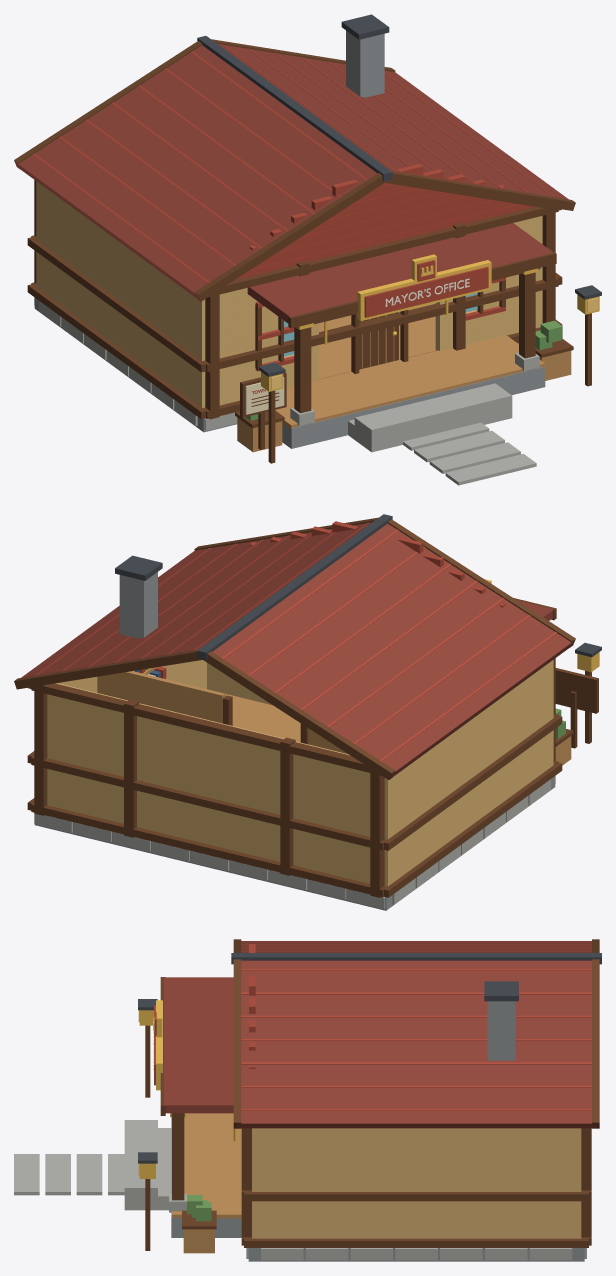
Rendered from MayorHouse_Architecture.fbx.
3 renders of one model, top to bottom at view 1: azimuth 30°, elevation 25°; view 2: azimuth 150°, elevation 25°; view 3: azimuth 270°, elevation 25°, orthographic.
Parts seen in each view (by area): view 1: Roof_Plane, Side_Wall, Roof_Plane.001, Porch_Roof, Porch_Platform, Stone_Step.002, Front_Wall, Front_Back_Beam.004, Front_Back_Beam.002, Porch_Stone_Base, Gable_Bargeboard, Gable_Board.001 (+32 smaller); view 2: Roof_Plane, Back_Wall, Side_Wall, Roof_Plane.001, Front_Back_Beam.005, Front_Back_Beam.001, Front_Back_Beam.003, Interior_Divider.001, Gable_Bargeboard.001, Roof_Ridge, Chimney, Side_Beam (+21 smaller); view 3: Roof_Plane.001, Side_Wall.001, Porch_Roof, Porch_Platform, Roof_Plane, Side_Beam.003, Side_Beam.001, Roof_Ridge, Stone_Step.002, Chimney, Gable_Bargeboard.002, Gable_Bargeboard.003 (+29 smaller).
Part boxes in pixels (x1=…): Roof_Plane: x1=16, y1=45, x2=377, y2=299; Side_Wall: x1=36, y1=181, x2=205, y2=407; Roof_Plane.001: x1=218, y1=44, x2=568, y2=199; Porch_Roof: x1=247, y1=223, x2=553, y2=323; Porch_Platform: x1=275, y1=335, x2=544, y2=428; Stone_Step.002: x1=354, y1=383, x2=512, y2=452; Front_Wall: x1=219, y1=288, x2=277, y2=405; Front_Back_Beam.004: x1=208, y1=207, x2=558, y2=297; Front_Back_Beam.002: x1=206, y1=278, x2=558, y2=371; Porch_Stone_Base: x1=282, y1=366, x2=545, y2=448; Gable_Bargeboard: x1=194, y1=173, x2=387, y2=301; Gable_Board.001: x1=252, y1=200, x2=518, y2=268; Roof_Plane: x1=212, y1=523, x2=573, y2=778; Back_Wall: x1=47, y1=683, x2=370, y2=883; Side_Wall: x1=384, y1=660, x2=553, y2=886; Roof_Plane.001: x1=21, y1=522, x2=371, y2=677; Front_Back_Beam.005: x1=31, y1=683, x2=380, y2=775; Front_Back_Beam.001: x1=31, y1=803, x2=387, y2=897; Front_Back_Beam.003: x1=31, y1=756, x2=387, y2=850; Interior_Divider.001: x1=97, y1=671, x2=225, y2=723; Gable_Bargeboard.001: x1=202, y1=651, x2=395, y2=779; Roof_Ridge: x1=197, y1=514, x2=392, y2=659; Chimney: x1=119, y1=572, x2=157, y2=638; Side_Beam: x1=384, y1=761, x2=562, y2=897; Roof_Plane.001: x1=236, y1=960, x2=596, y2=1128; Side_Wall.001: x1=252, y1=1128, x2=581, y2=1238; Porch_Roof: x1=164, y1=977, x2=233, y2=1113; Porch_Platform: x1=172, y1=1113, x2=241, y2=1218; Roof_Plane: x1=241, y1=941, x2=591, y2=952; Side_Beam.003: x1=244, y1=1190, x2=588, y2=1201; Side_Beam.001: x1=244, y1=1237, x2=588, y2=1247; Roof_Ridge: x1=231, y1=953, x2=601, y2=964; Stone_Step.002: x1=124, y1=1120, x2=157, y2=1210; Chimney: x1=487, y1=1001, x2=515, y2=1060; Gable_Bargeboard.002: x1=233, y1=959, x2=241, y2=1128; Gable_Bargeboard.003: x1=592, y1=959, x2=599, y2=1128.
Size of the model in its own units: 1934 by 1195 by 2625.
